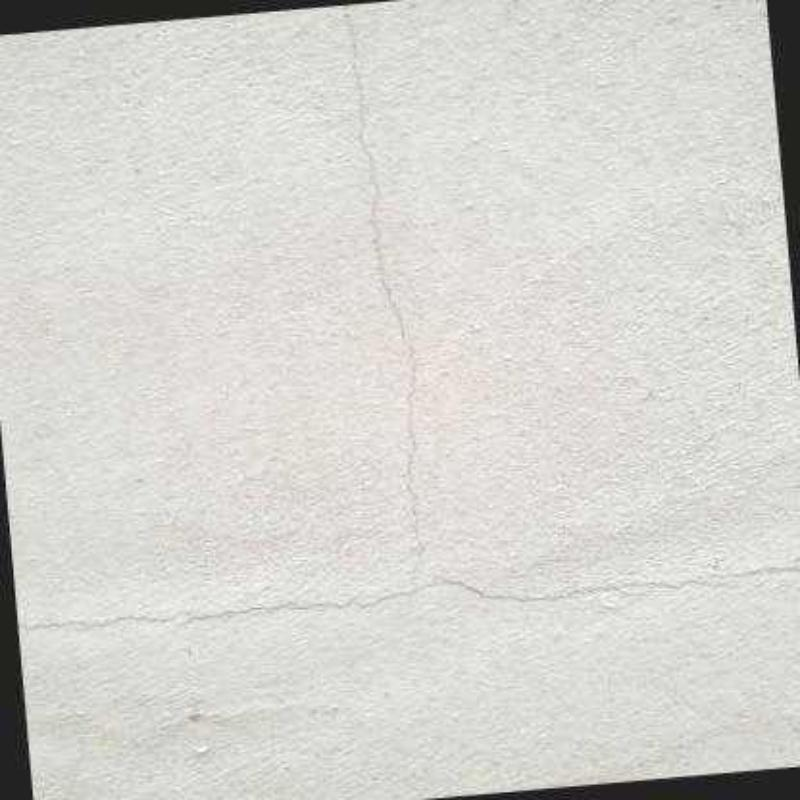pothole: (22, 8, 800, 632)
